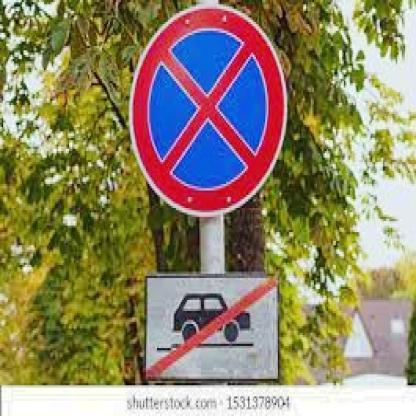No stopping: (130, 3, 288, 216)
